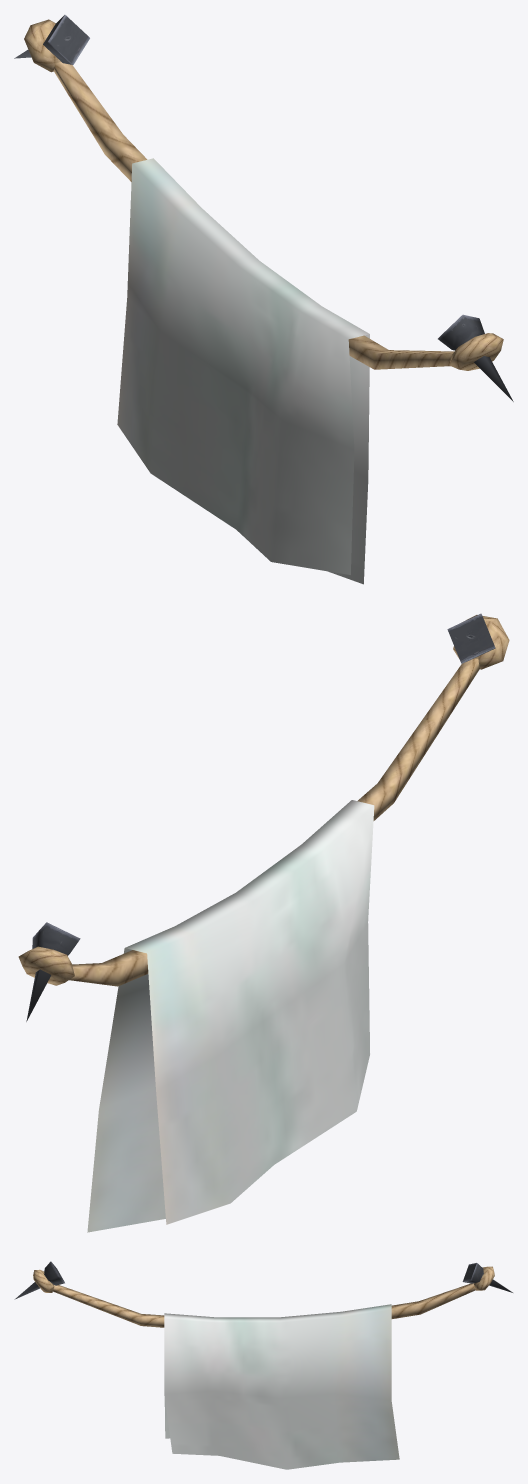
Rendered from SM_PROP_clothesline_01.glb.
The picture shows the model from 3 angles, top to bottom: view 1: azimuth 30°, elevation 25°; view 2: azimuth 150°, elevation 25°; view 3: azimuth 270°, elevation 25°; orthographic projection. The views are drawn at different scales.
Parts seen in each view (by area): view 1: SM_PROP_clothesline_01_EXPORT; view 2: SM_PROP_clothesline_01_EXPORT; view 3: SM_PROP_clothesline_01_EXPORT.
Part boxes in pixels (bbox=[...]): SM_PROP_clothesline_01_EXPORT: bbox=[14, 15, 513, 584]; SM_PROP_clothesline_01_EXPORT: bbox=[18, 613, 509, 1232]; SM_PROP_clothesline_01_EXPORT: bbox=[14, 1261, 512, 1469].
Bounding box in the file's own units: 0.2797 × 1.29 × 2.9.
3 materials, 3 textured.
